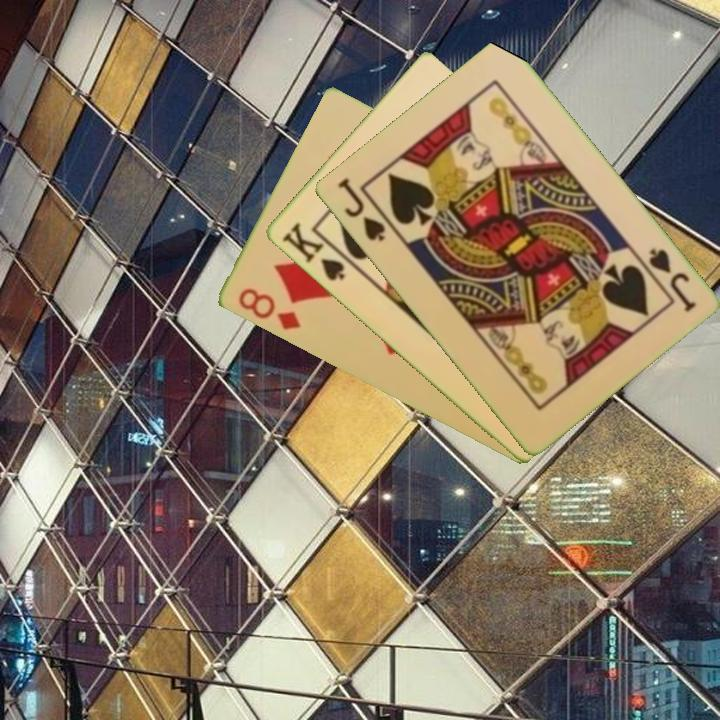8d: (234, 284, 304, 334)
Js: (333, 174, 388, 244), (644, 244, 698, 315)
Ks: (277, 218, 347, 284)
